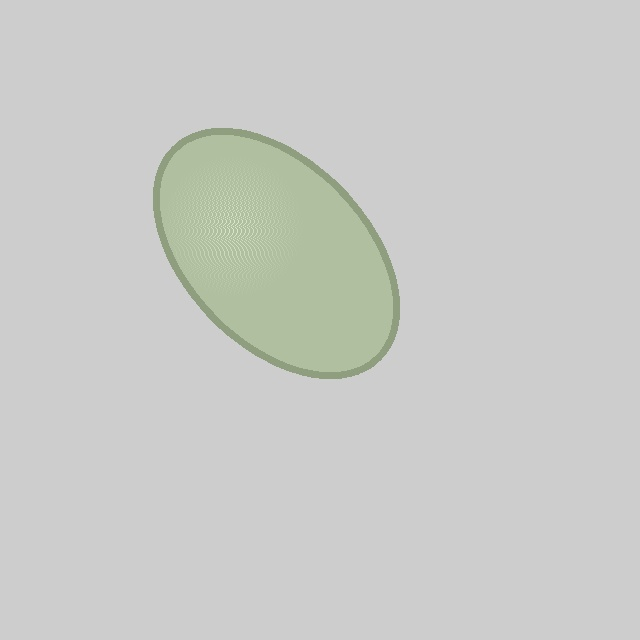lens: (156, 131, 396, 375)
